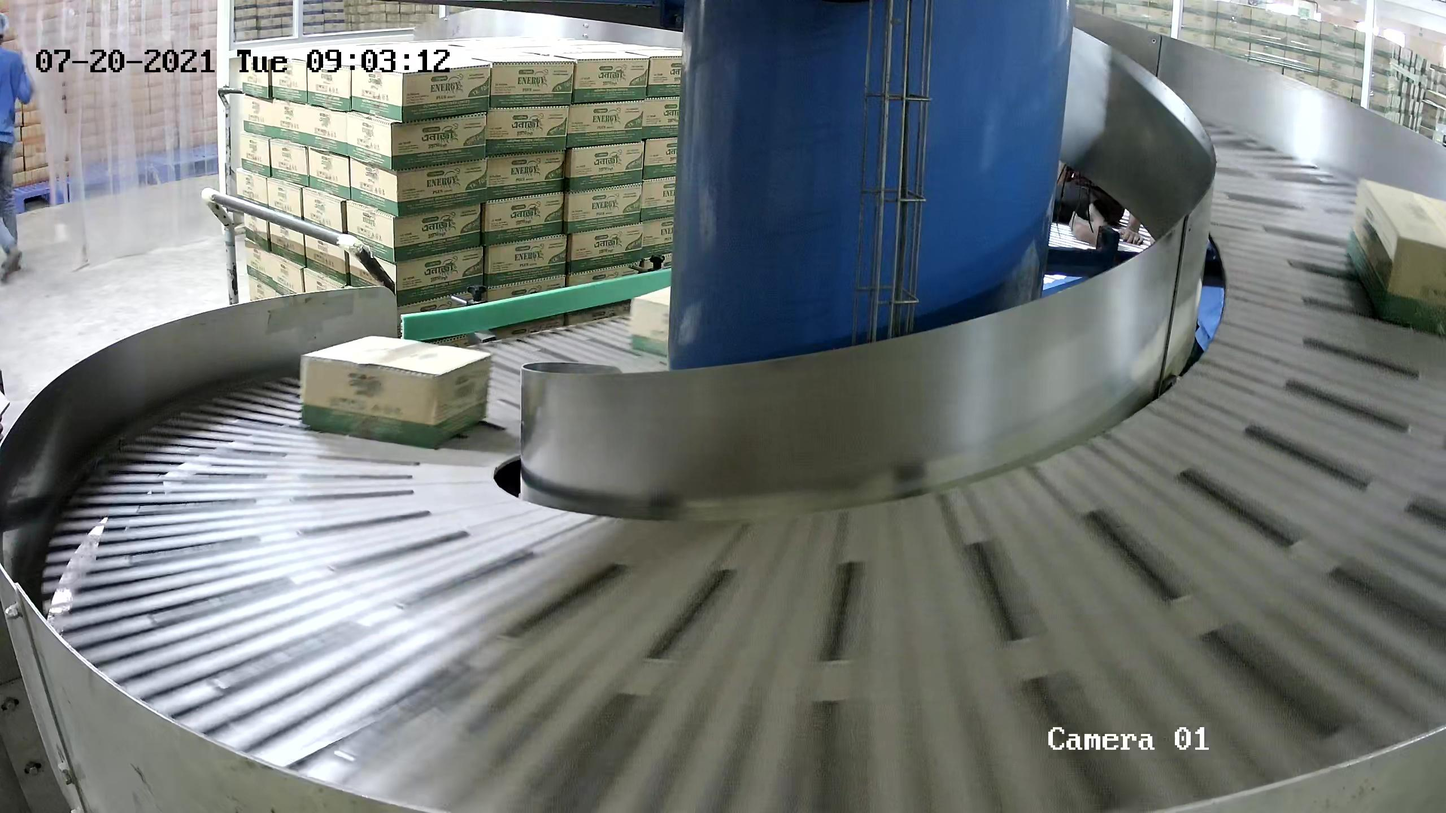Box: (299, 334, 493, 449), (1344, 176, 1446, 335), (628, 285, 671, 357)
